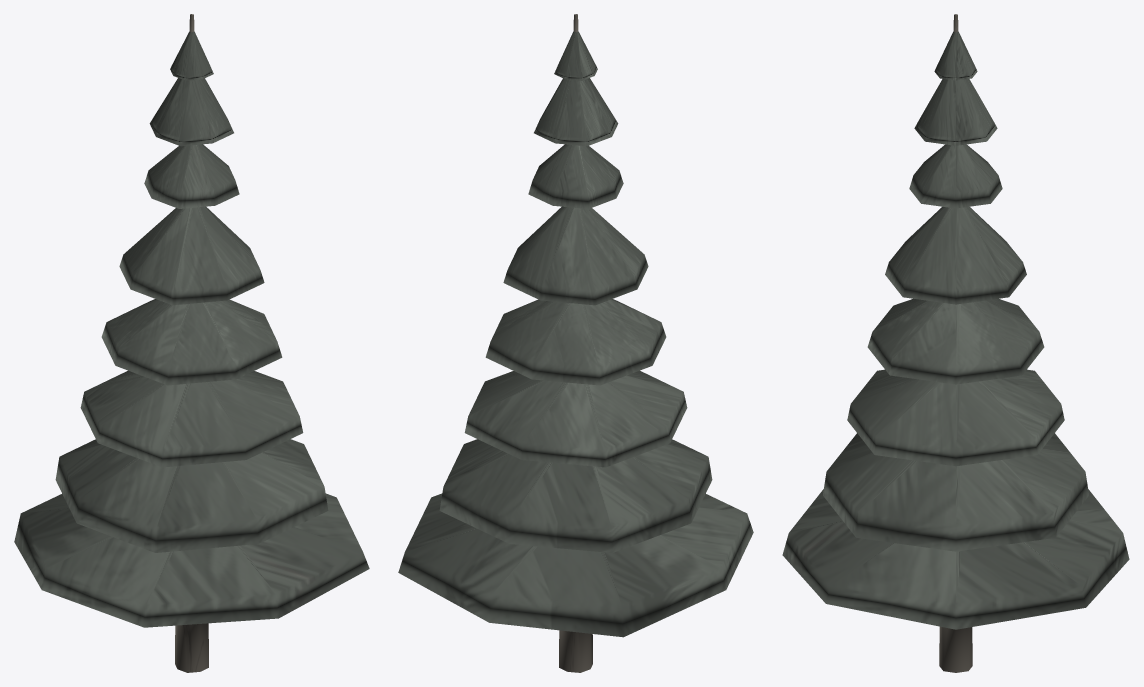
The model's file is SpruceTree.fbx.
The picture shows the model from 3 angles, left to right: view 1: azimuth 30°, elevation 25°; view 2: azimuth 150°, elevation 25°; view 3: azimuth 270°, elevation 25°; orthographic projection.
Visible parts, largest first — view 1: SpruceTree; view 2: SpruceTree; view 3: SpruceTree.
Part boxes in pixels (x1=…): SpruceTree: x1=14, y1=14, x2=369, y2=672; SpruceTree: x1=398, y1=14, x2=753, y2=672; SpruceTree: x1=782, y1=14, x2=1129, y2=672.
Size of the model in its own units: 2.37 by 4.9 by 2.37.
Materials: 2 (2 with a texture image).
